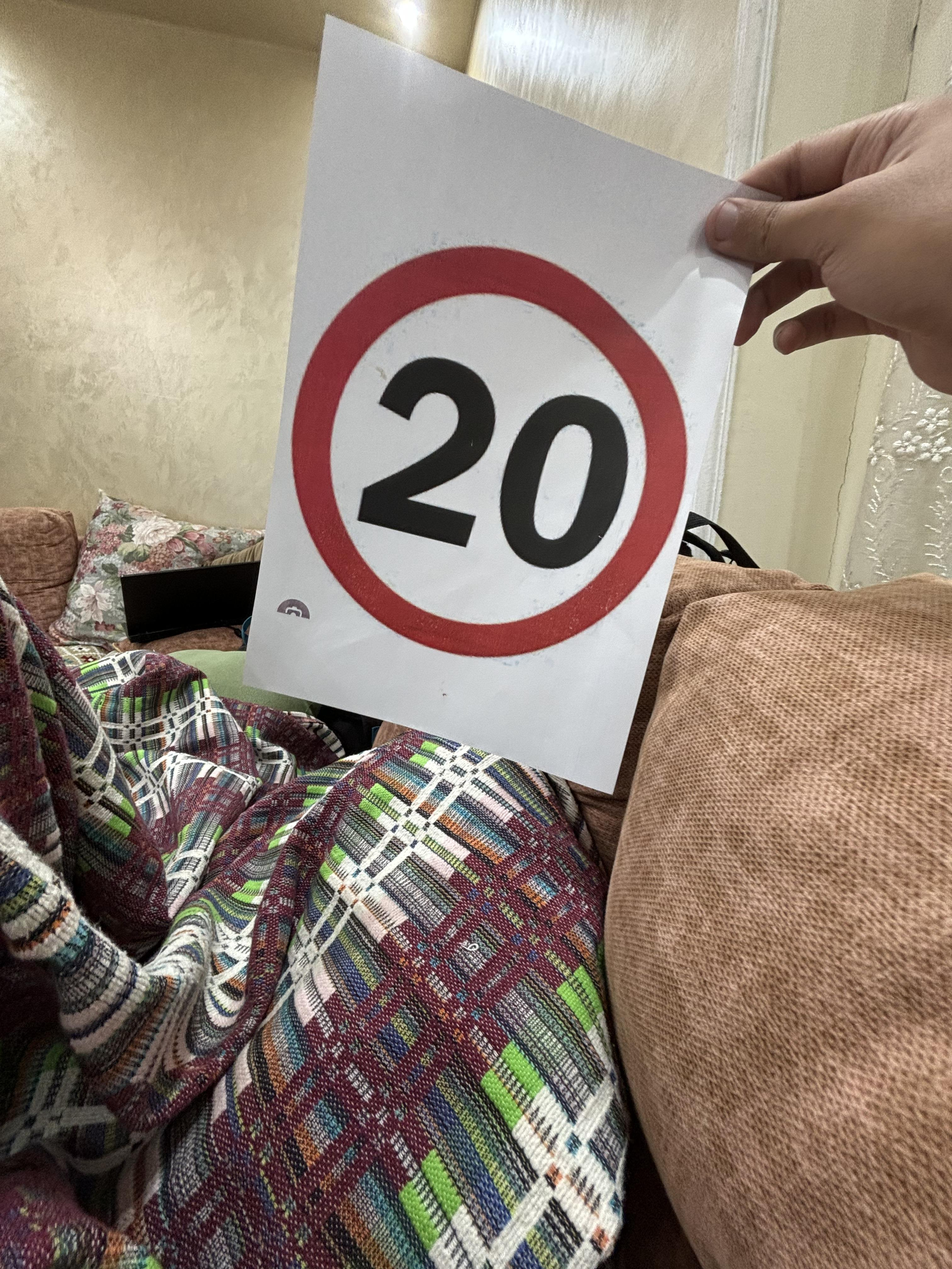20-Speed: (300, 243, 666, 649)
